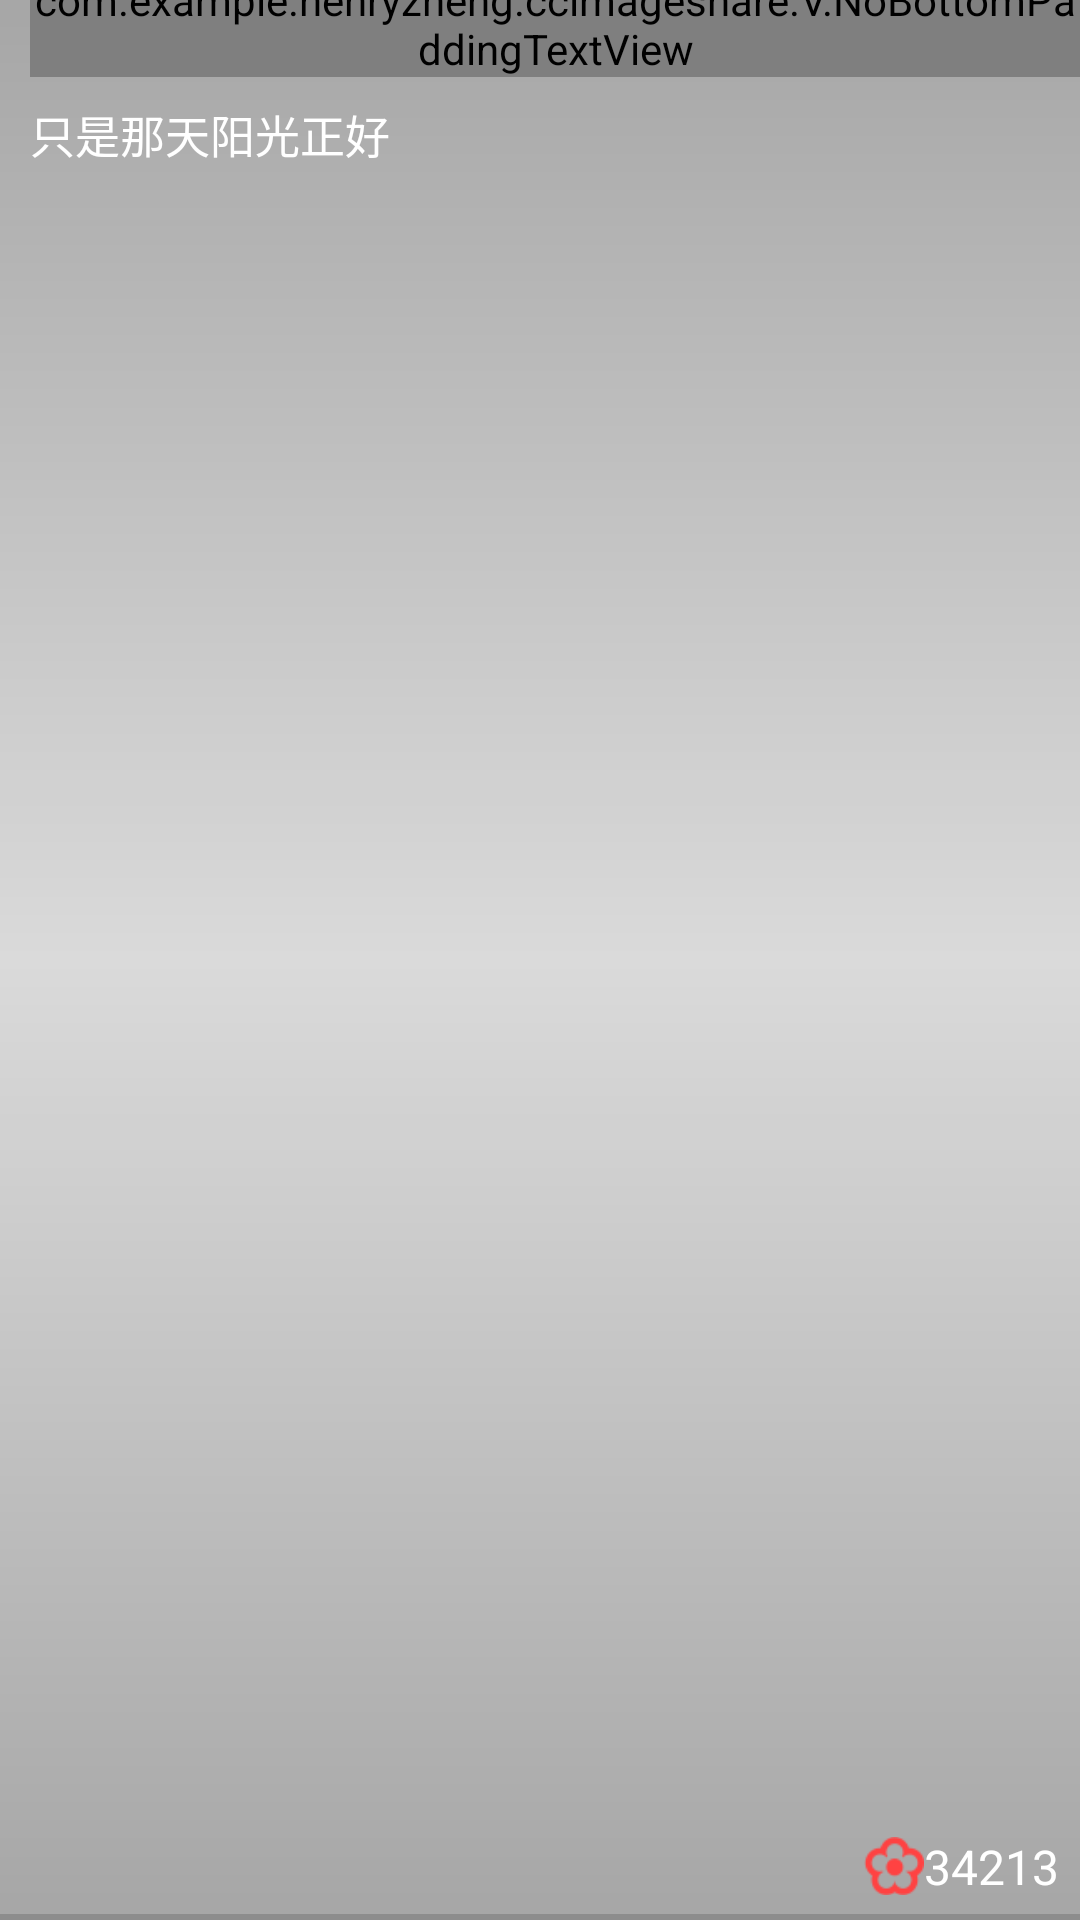

Where to tap for icons on this 1080w x 1920h app screen, as (x=x, y=y):
flower: (x=894, y=1866)
